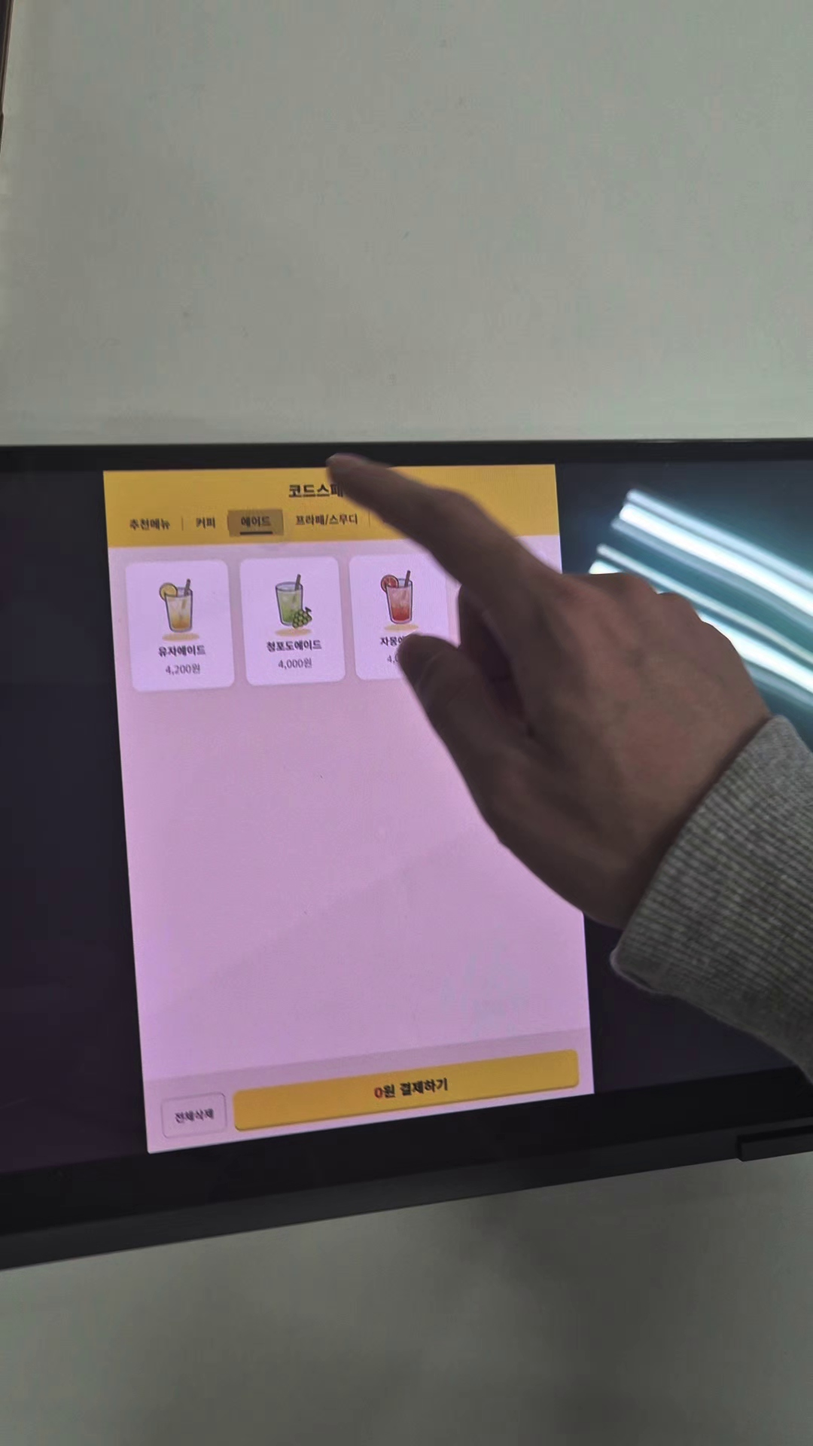action_button: (232, 1047, 581, 1133), (160, 1091, 227, 1140)
category_tab: (294, 512, 359, 527), (128, 517, 173, 532), (239, 514, 272, 528), (194, 516, 217, 530)
menu_back: (124, 558, 237, 695), (238, 555, 347, 688), (348, 551, 453, 681)
menu_name: (265, 638, 324, 654), (158, 643, 207, 659)
menu_price: (276, 656, 314, 671), (164, 662, 202, 677)
